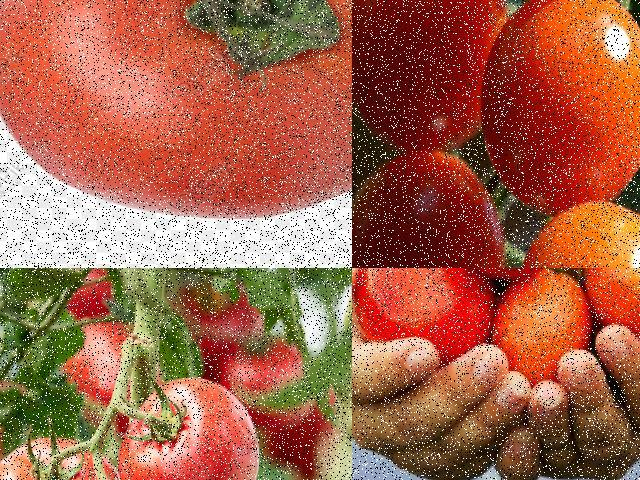tomato: (0, 0, 351, 231), (484, 0, 639, 210), (352, 0, 508, 147), (352, 154, 512, 267), (352, 268, 494, 382), (118, 380, 266, 479), (506, 268, 592, 409), (217, 330, 311, 418), (0, 430, 120, 479), (587, 268, 639, 347)
